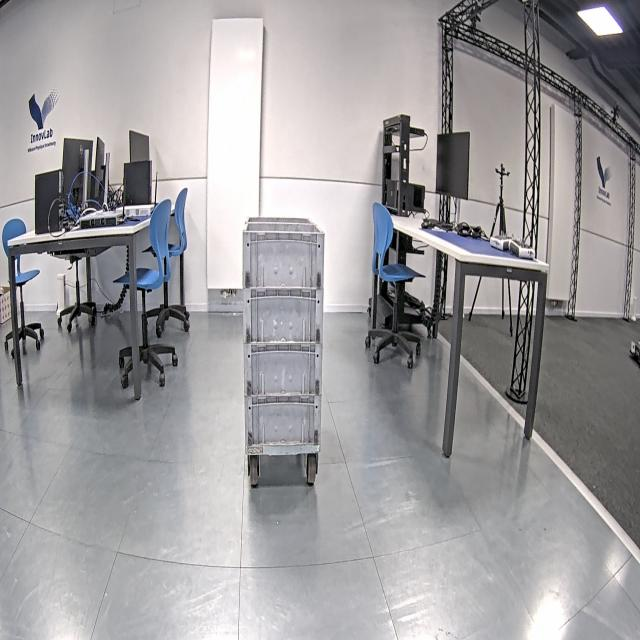Box8G: (242, 213, 326, 293), (242, 289, 325, 348), (242, 343, 323, 400), (244, 396, 321, 450)
